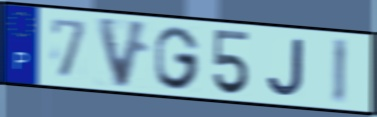5: (211, 28, 251, 97)
7: (48, 16, 89, 80)
G: (153, 25, 202, 92)
I: (331, 36, 350, 106)
J: (265, 36, 306, 99)
V: (94, 14, 152, 90)
